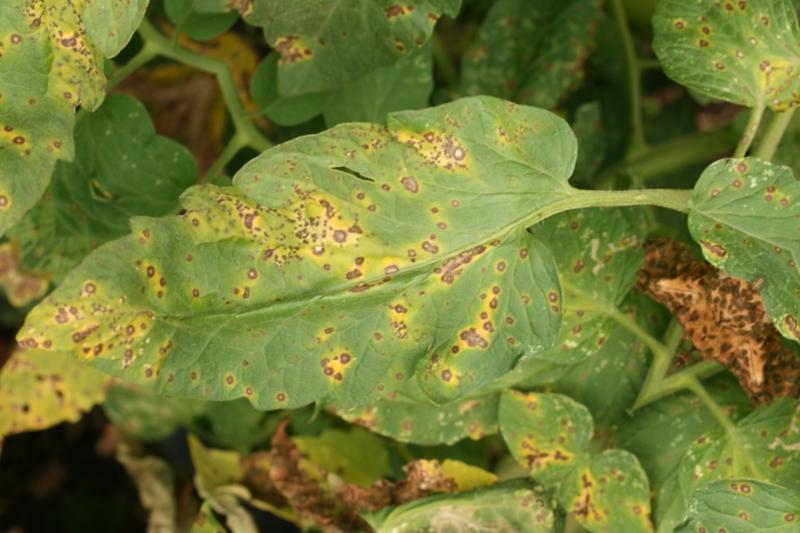Tomato Septoria leaf spot: (13, 0, 665, 533)
